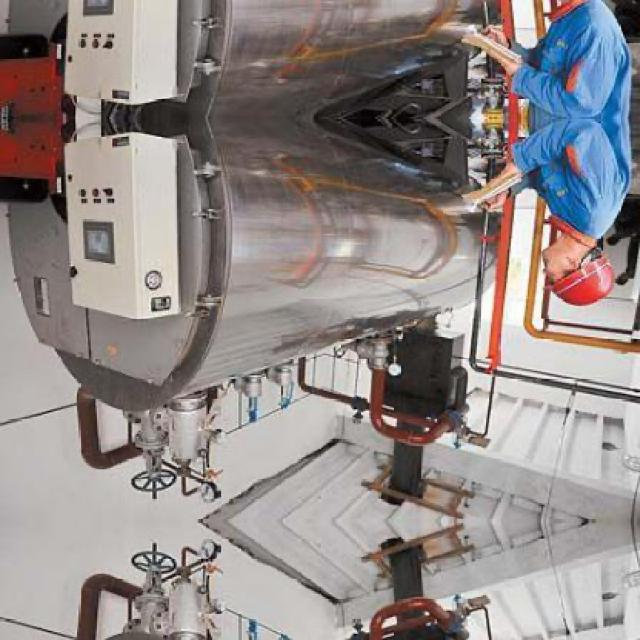con casco: (516, 240, 632, 310)
